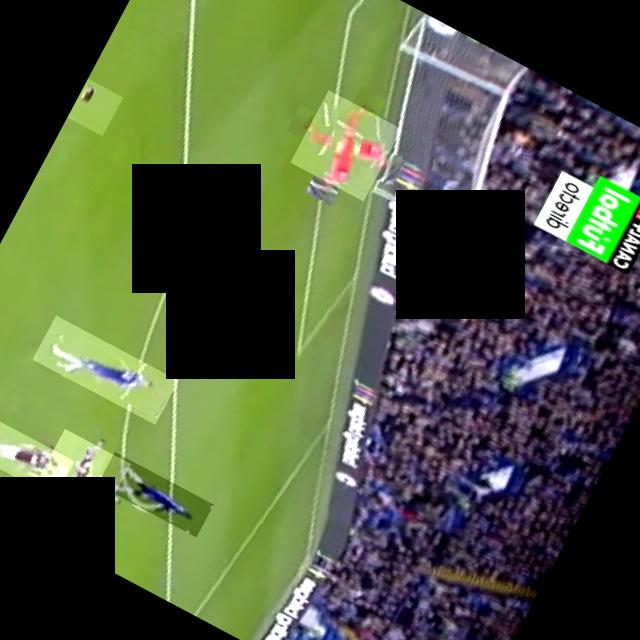goalkeeper: (288, 90, 401, 200)
soccer-player: (31, 315, 177, 424), (28, 428, 130, 530), (96, 452, 212, 536), (0, 406, 73, 498), (66, 78, 121, 136)
